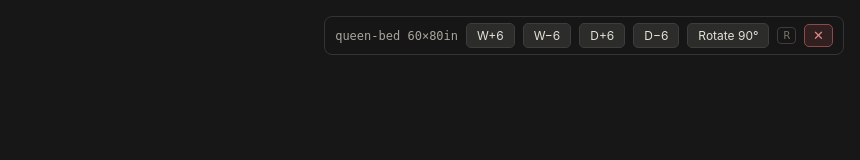
Test case: selection actions › shows the refusal when a turn does not fit
Click the button "Rotate 90°": (728, 36) [687,23,769,48]
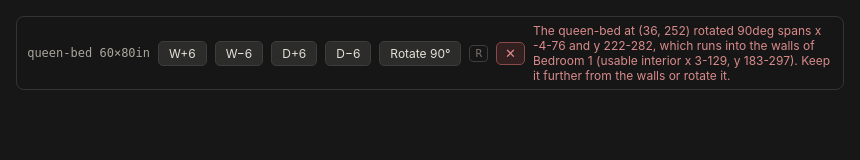
Result: the text "runs into the walls" is shown at [533,23,830,83]
